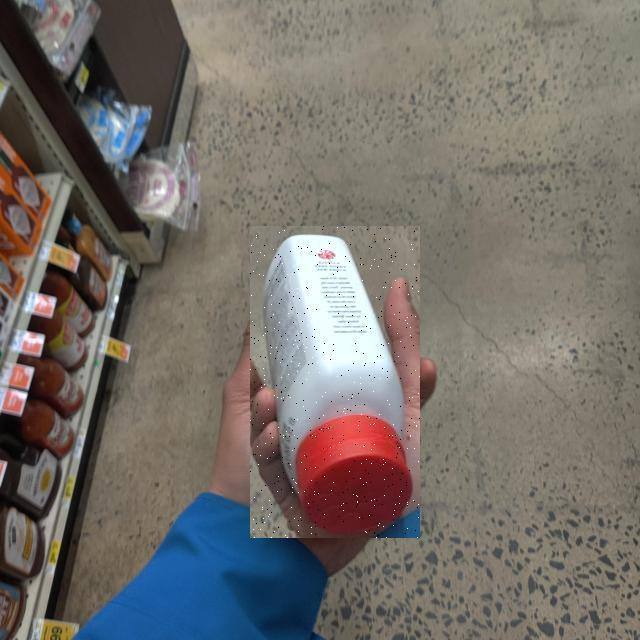Sauce: (251, 226, 421, 538)
